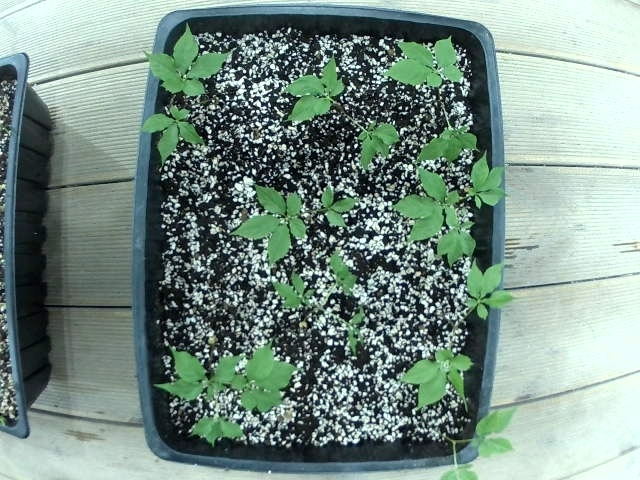수확기: (386, 343, 502, 412), (140, 338, 242, 405), (458, 371, 527, 465), (221, 175, 301, 253), (144, 26, 222, 99), (387, 33, 475, 95), (139, 95, 209, 169), (280, 57, 352, 128), (452, 161, 519, 234), (237, 350, 310, 415), (315, 296, 395, 353), (186, 398, 263, 455), (337, 111, 407, 173), (399, 175, 459, 235), (304, 177, 370, 231), (428, 119, 494, 167), (435, 225, 499, 274), (451, 267, 503, 318), (315, 243, 366, 290), (263, 262, 315, 307), (431, 443, 484, 479)
